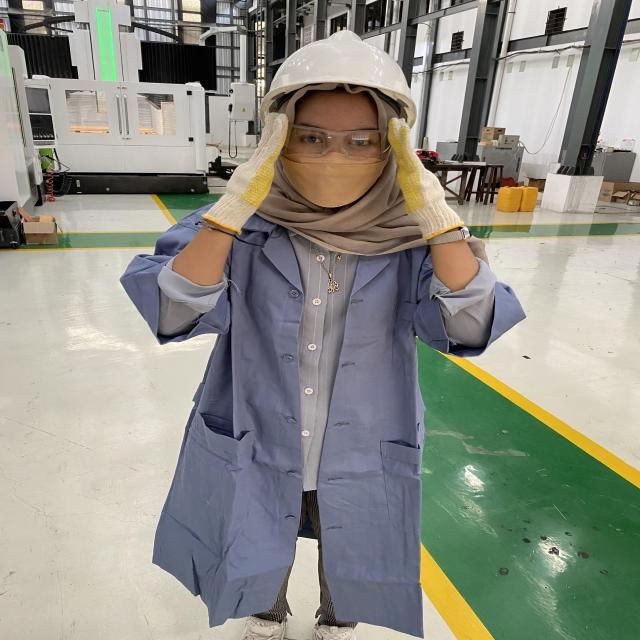face_mask: (271, 115, 389, 205)
glasses: (275, 120, 401, 162)
hand_glove: (203, 109, 292, 220), (378, 115, 454, 220)
head_helmet: (258, 27, 422, 110)
person: (145, 26, 514, 622)
